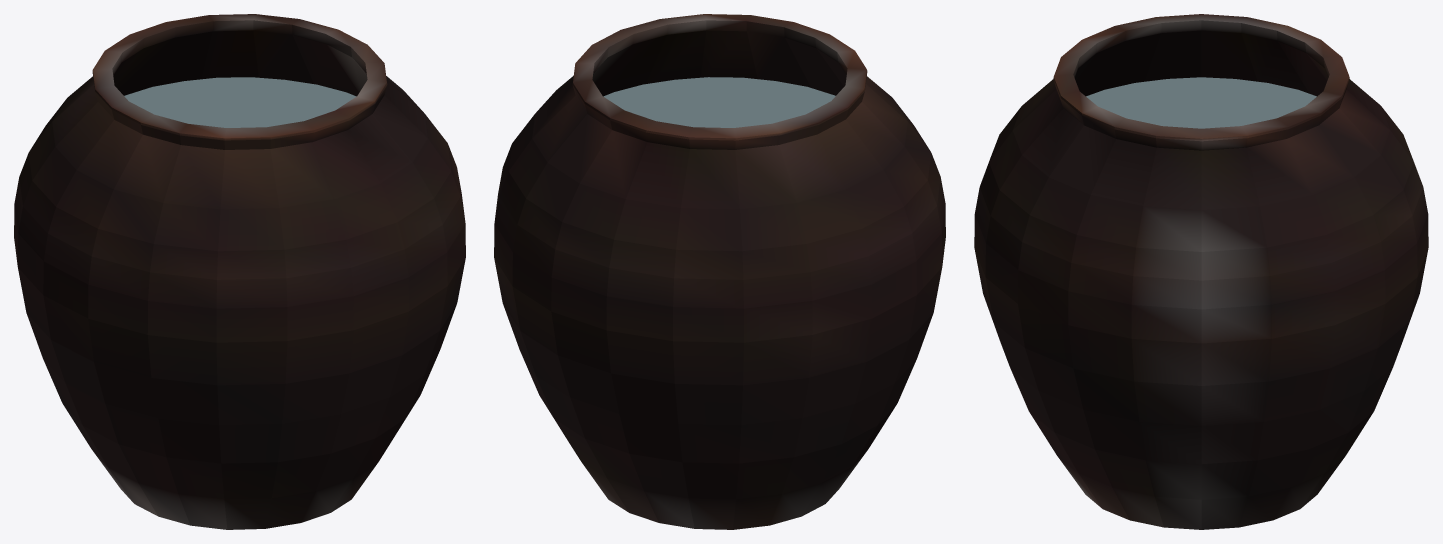
File: filled_water.glb
3 renders of one model, left to right at view 1: azimuth 30°, elevation 25°; view 2: azimuth 150°, elevation 25°; view 3: azimuth 270°, elevation 25°, orthographic.
Parts seen in each view (by area): view 1: SM_Jar01b_M_Jar01b_0, variant_water_surface; view 2: SM_Jar01b_M_Jar01b_0, variant_water_surface; view 3: SM_Jar01b_M_Jar01b_0, variant_water_surface.
Part boxes in pixels (x1,y1,x2,y2): SM_Jar01b_M_Jar01b_0: [14, 14, 465, 529]; variant_water_surface: [124, 77, 356, 127]; SM_Jar01b_M_Jar01b_0: [494, 14, 945, 529]; variant_water_surface: [603, 77, 835, 127]; SM_Jar01b_M_Jar01b_0: [974, 14, 1428, 529]; variant_water_surface: [1086, 77, 1316, 128].
Bounding box in the file's own units: 0.762 × 0.7518 × 0.762.
